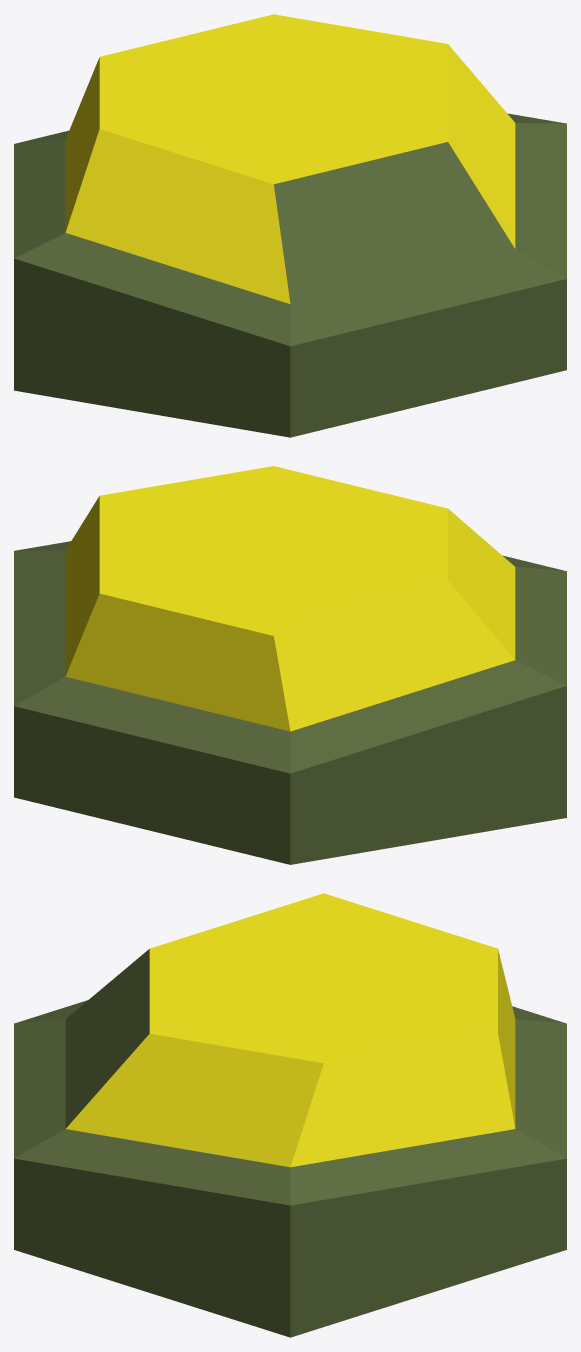
Rendered from Cannon2.fbx.
The picture shows the model from 3 angles, top to bottom: view 1: azimuth 30°, elevation 25°; view 2: azimuth 150°, elevation 25°; view 3: azimuth 270°, elevation 25°; orthographic projection.
Visible parts, largest first — view 1: Cannon1; view 2: Cannon1; view 3: Cannon1.
Boxes of the visible parts, <box> form: Cannon1: <box>14,14,566,437</box>; Cannon1: <box>14,466,566,864</box>; Cannon1: <box>14,893,566,1337</box>.
Bounding box in the file's own units: 4.45 × 1.73 × 3.85.
